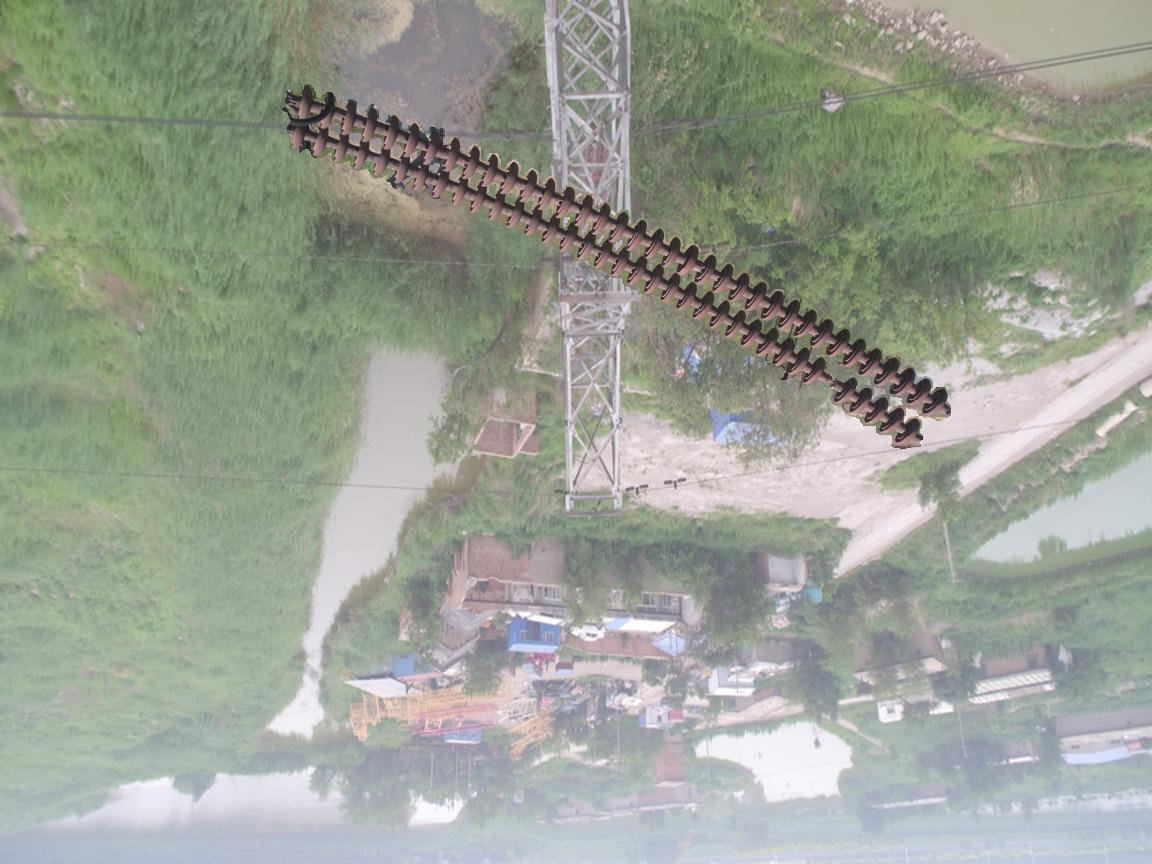insulator: (280, 81, 959, 453)
insulator_stringdrop: (800, 355, 861, 407)
